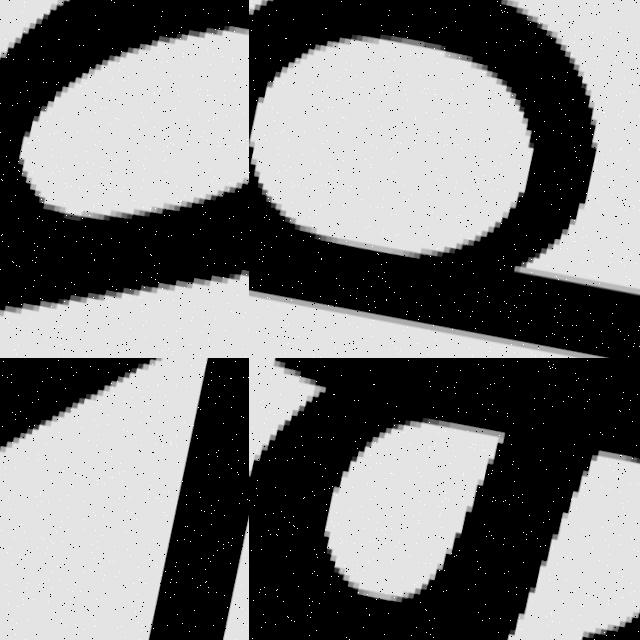A: (249, 358, 640, 640)
B: (249, 0, 640, 358)
Z: (0, 358, 249, 640)
